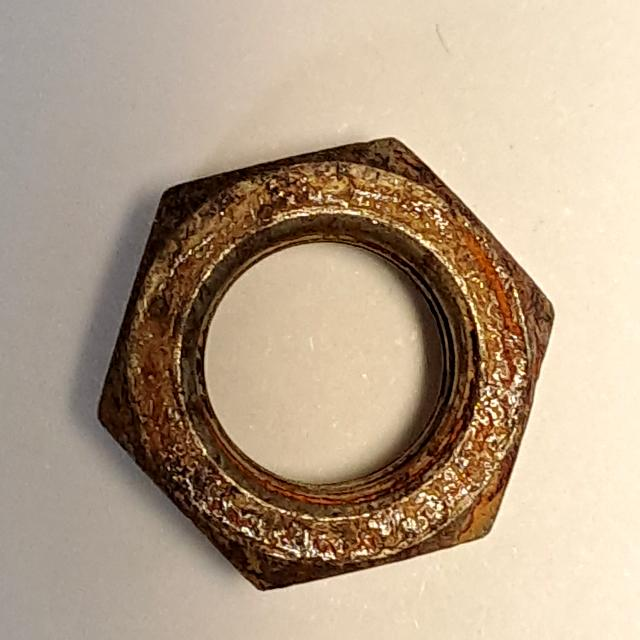Rust: (85, 132, 561, 600)
